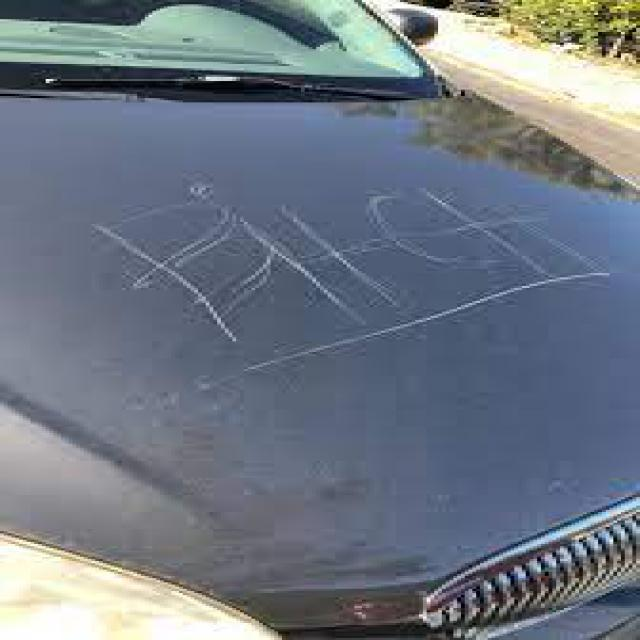bonnet-dent: (0, 96, 636, 589)
